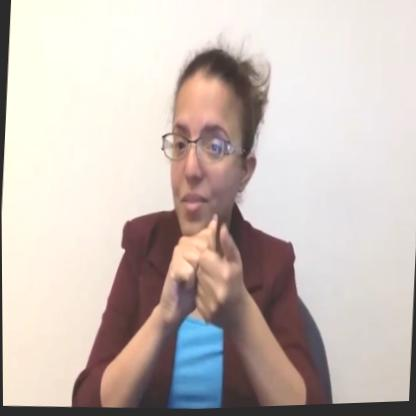HowAreYou: (151, 201, 260, 356)
